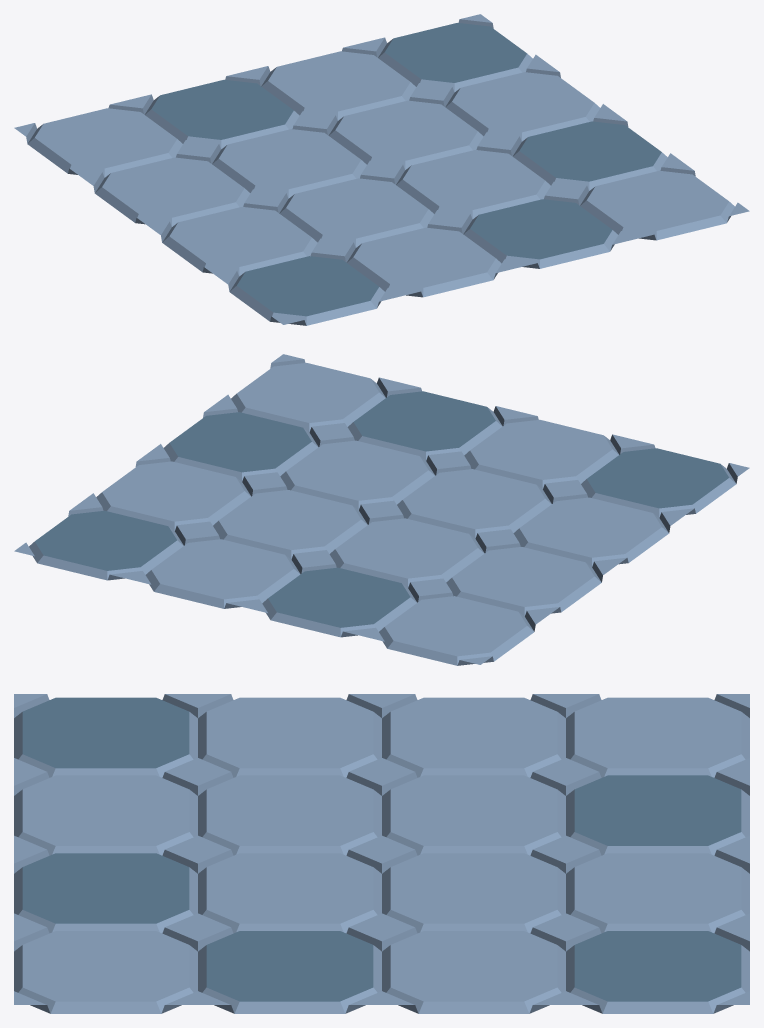
The model's file is Floor_Tile_01_F.glb.
The picture shows the model from 3 angles, top to bottom: view 1: azimuth 30°, elevation 25°; view 2: azimuth 150°, elevation 25°; view 3: azimuth 270°, elevation 25°; orthographic projection. The views are drawn at different scales.
Visible parts, largest first — view 1: Floor_Tile_01_F; view 2: Floor_Tile_01_F; view 3: Floor_Tile_01_F.
Part boxes in pixels (x1,y1,x2,y2): Floor_Tile_01_F: (14, 14, 749, 325); Floor_Tile_01_F: (14, 354, 749, 665); Floor_Tile_01_F: (14, 694, 749, 1013).
Bounding box in the file's own units: 4 × 0.053 × 4.
Materials: 1 (1 with a texture image).
